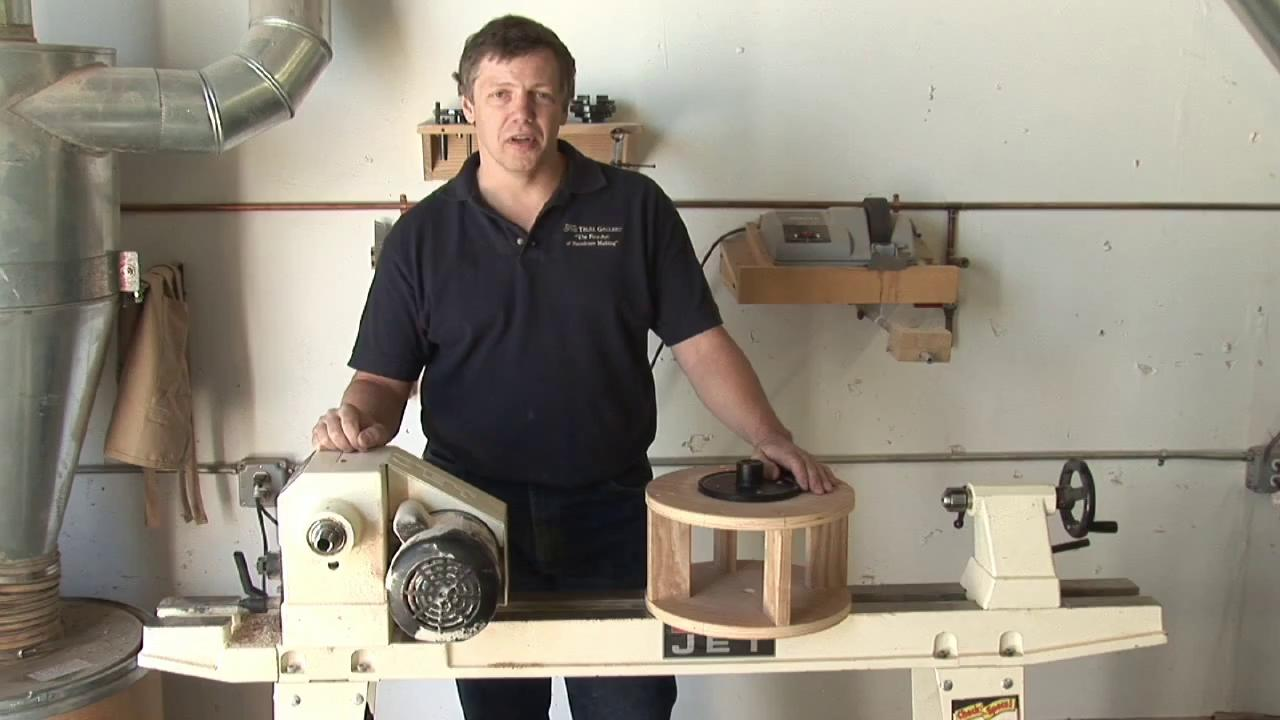victim: (311, 11, 842, 720)
